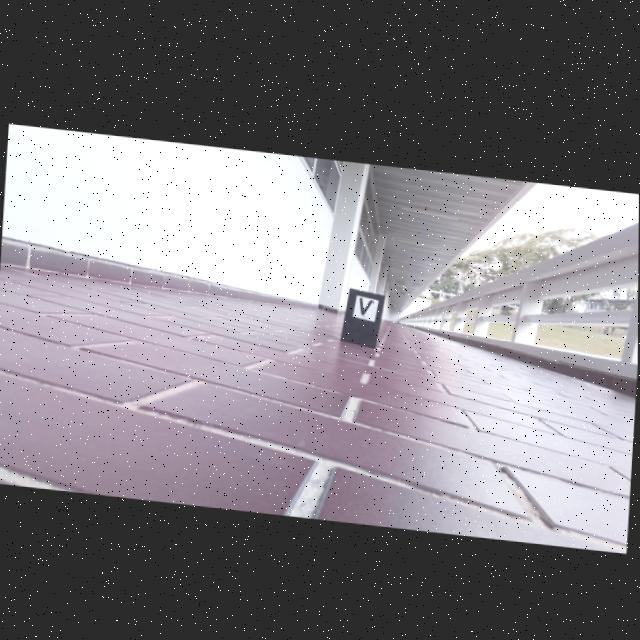V: (360, 294, 374, 311)
